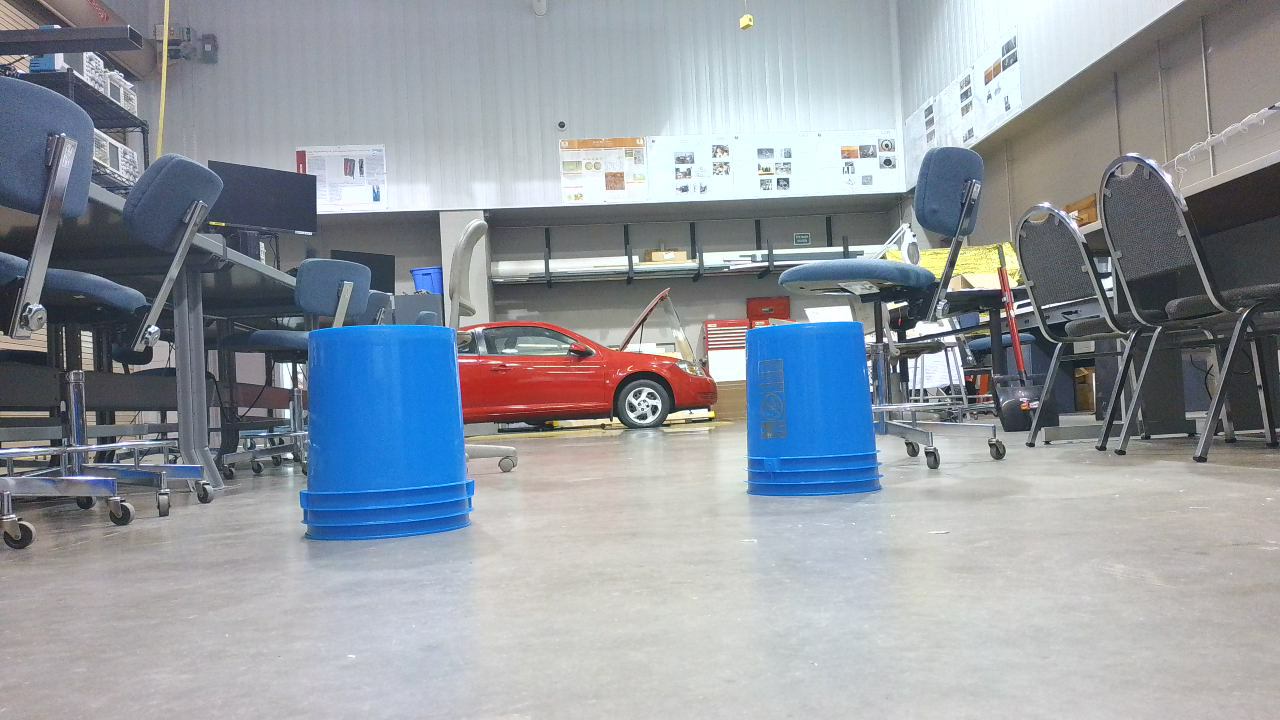blue_bucket: (305, 328, 482, 548), (749, 325, 889, 502)
